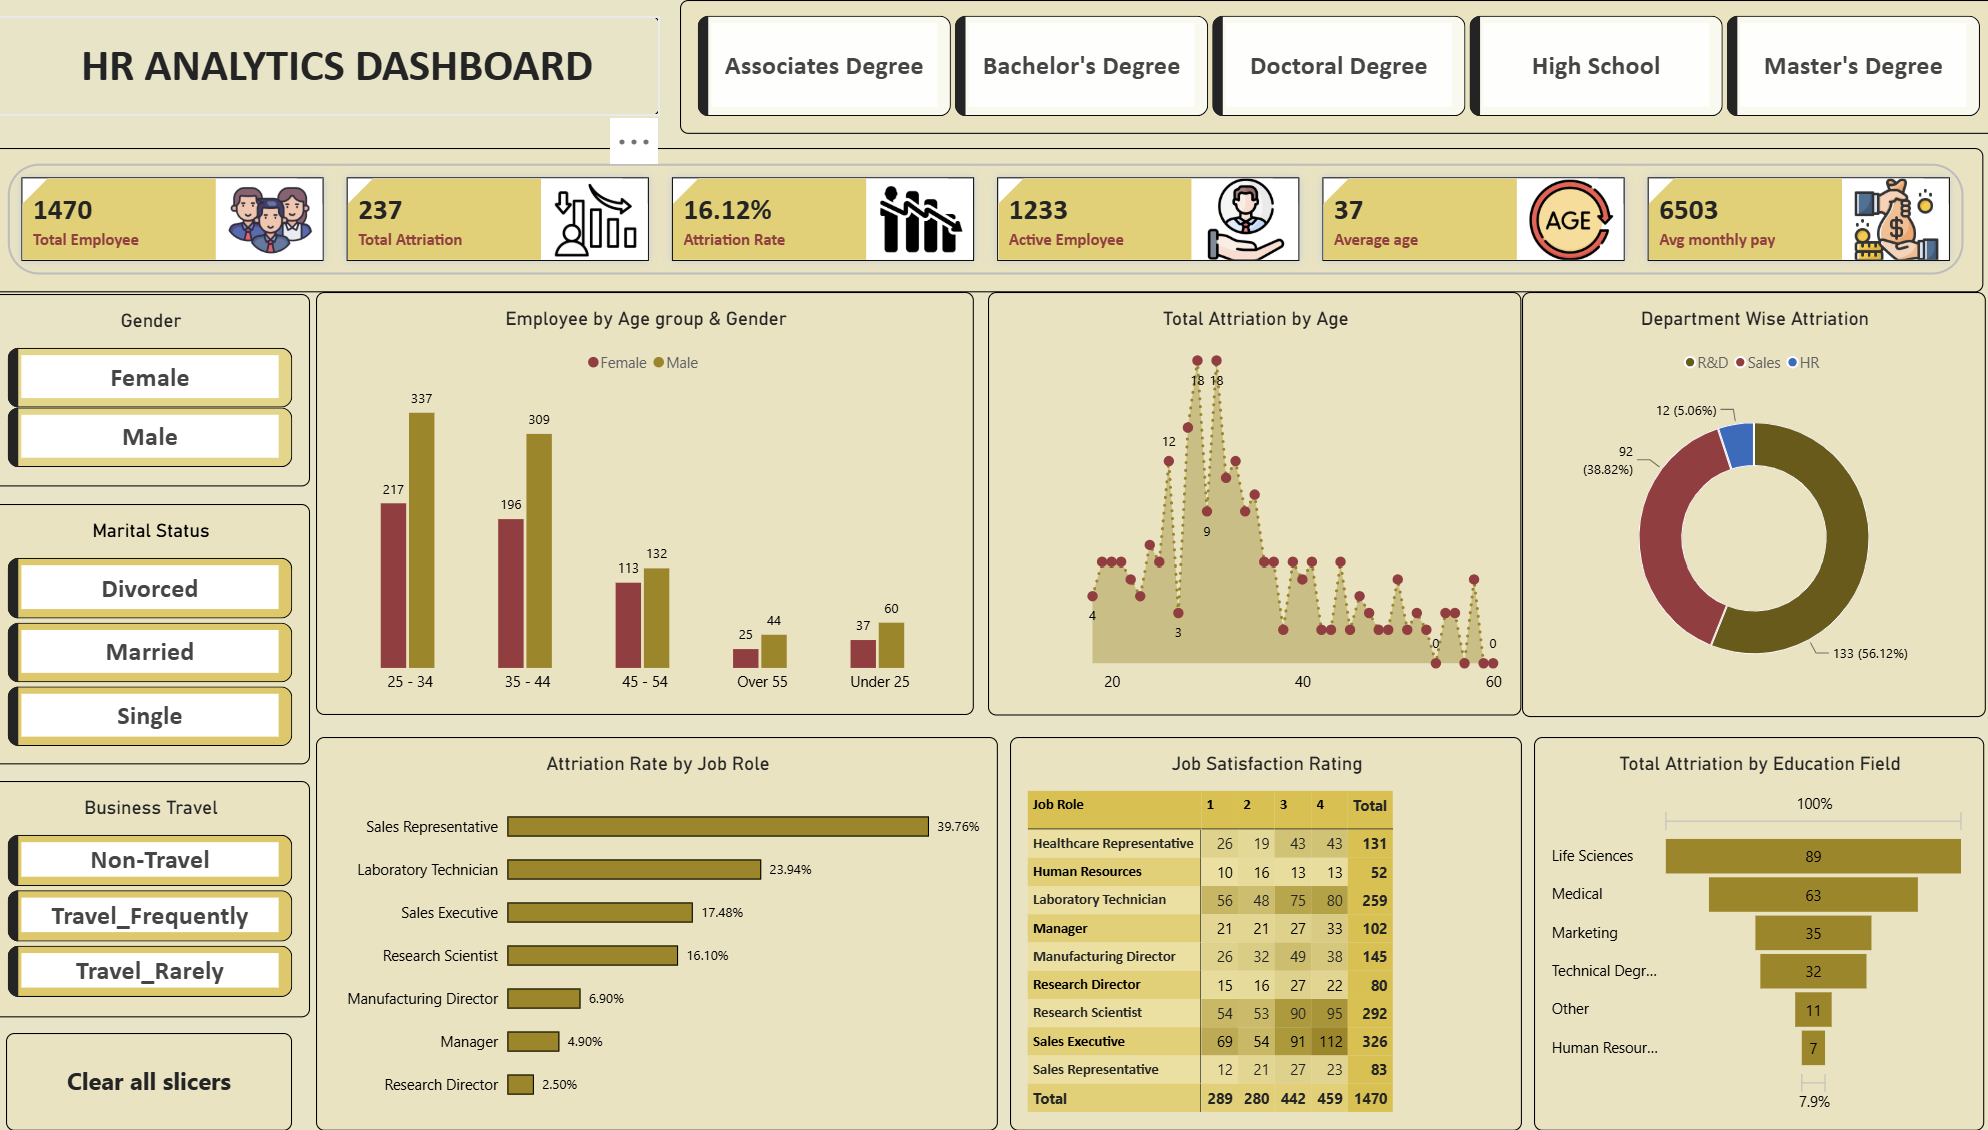

What the dashboard file says about the page in this screenshot:
{"tool":"powerbi","page":{"name":"Page 1","canvas":[1920,1080],"ordinal":0},"visuals":[{"type":"cardVisual","fields":{"Data":["HR data.Total Employee","HR data.Total Attriation","HR data.Attriation Rate","HR data.Active Employee","Avg(HR data.Age)","Avg(HR data.Monthly Income)"]},"box":[0,142,1906,138],"z":0},{"type":"clusteredColumnChart","title":"Employee by Age  group & Gender","fields":{"Y":["HR data.Total Employee"],"Category":["HR data.Age Group"],"Series":["HR data.Gender"]},"box":[311.7,279.2,629.2,403.5],"z":1000},{"type":"areaChart","fields":{"Category":["HR data.Age"],"Y":["HR data.Total Attriation"]},"box":[954,280,510,404],"z":2000},{"type":"donutChart","title":"Department Wise Attriation","fields":{"Category":["HR data.Department"],"Y":["HR data.Total Attriation"]},"box":[1464.9,279.2,443.7,405.4],"z":3000},{"type":"barChart","fields":{"Category":["HR data.Job Role"],"Y":["HR data.Attriation Rate"]},"box":[311.7,703.7,652.1,376.7],"z":4000},{"type":"pivotTable","title":"Job Satisfaction Rating","fields":{"Rows":["HR data.Job Role"],"Columns":["HR data.Job Satisfaction"],"Values":["HR data.Total Employee"]},"box":[975.3,703.7,489.6,376.7],"z":5000},{"type":"funnel","fields":{"Category":["HR data.Education Field"],"Y":["HR data.Total Attriation"]},"box":[1476.3,703.7,430.3,376.7],"z":6000},{"type":"advancedSlicerVisual","fields":{"Values":["HR data.Gender"]},"box":[0,282,306,184],"z":7000},{"type":"advancedSlicerVisual","fields":{"Values":["HR data.Marital Status"]},"box":[0,482,306,248],"z":8000},{"type":"advancedSlicerVisual","fields":{"Values":["HR data.Business Travel"]},"box":[0,746,306,226],"z":9000},{"type":"advancedSlicerVisual","fields":{"Values":["HR data.Education"]},"box":[659.8,0,1264.1,128.1],"z":10000},{"type":"actionButton","box":[15.3,986.8,273.5,93.7],"z":11000},{"type":"textbox","box":[1.9,15.3,638.7,95.6],"z":12000}]}

Visuals, with their boxes in screenshot pixels (x1, y1, x2, y2), scaled from the page's 1920x1080 canvas onto the 1988x1130 screenshot:
cardVisual - HR data.Total Employee x HR data.Total Attriation: {"x1": 0, "y1": 149, "x2": 1974, "y2": 293}
"Employee by Age  group & Gender" clusteredColumnChart: {"x1": 323, "y1": 292, "x2": 974, "y2": 714}
areaChart - HR data.Age x HR data.Total Attriation: {"x1": 988, "y1": 293, "x2": 1516, "y2": 716}
"Department Wise Attriation" donutChart: {"x1": 1517, "y1": 292, "x2": 1976, "y2": 716}
barChart - HR data.Job Role x HR data.Attriation Rate: {"x1": 323, "y1": 736, "x2": 998, "y2": 1129}
"Job Satisfaction Rating" pivotTable: {"x1": 1010, "y1": 736, "x2": 1517, "y2": 1129}
funnel - HR data.Education Field x HR data.Total Attriation: {"x1": 1529, "y1": 736, "x2": 1974, "y2": 1129}
advancedSlicerVisual - HR data.Gender: {"x1": 0, "y1": 295, "x2": 317, "y2": 488}
advancedSlicerVisual - HR data.Marital Status: {"x1": 0, "y1": 504, "x2": 317, "y2": 764}
advancedSlicerVisual - HR data.Business Travel: {"x1": 0, "y1": 781, "x2": 317, "y2": 1017}
advancedSlicerVisual - HR data.Education: {"x1": 683, "y1": 0, "x2": 1987, "y2": 134}
actionButton: {"x1": 16, "y1": 1032, "x2": 299, "y2": 1129}
textbox: {"x1": 2, "y1": 16, "x2": 663, "y2": 116}
